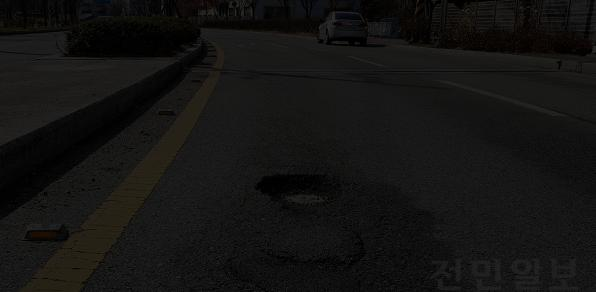pothole: (237, 163, 366, 227)
